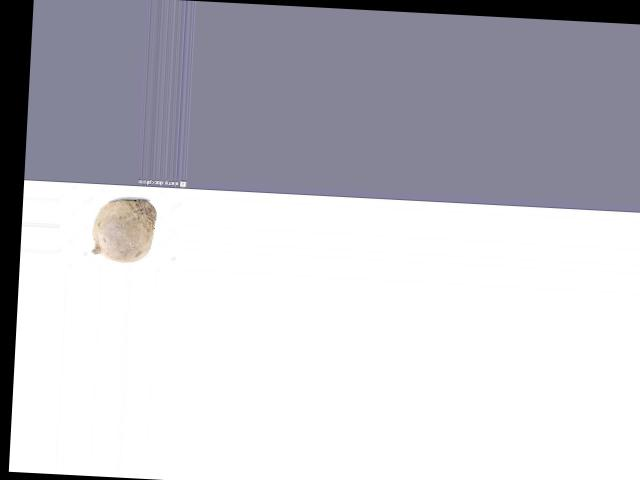beet: (90, 196, 156, 263)
